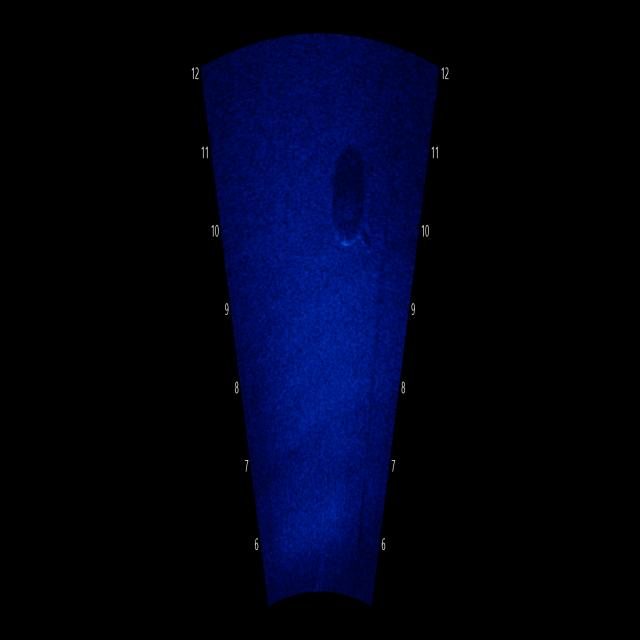circle: (325, 171, 371, 256)
